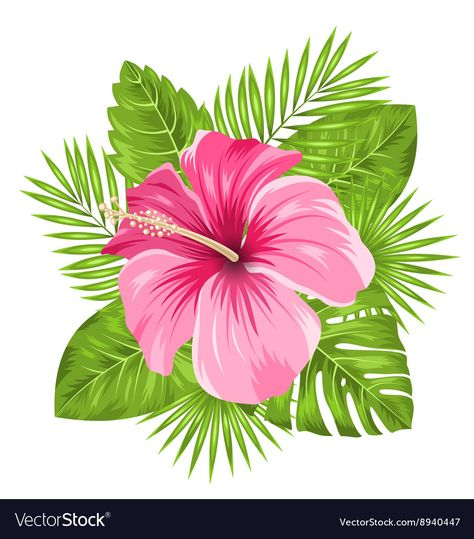Hibiscus: (107, 134, 364, 395)
